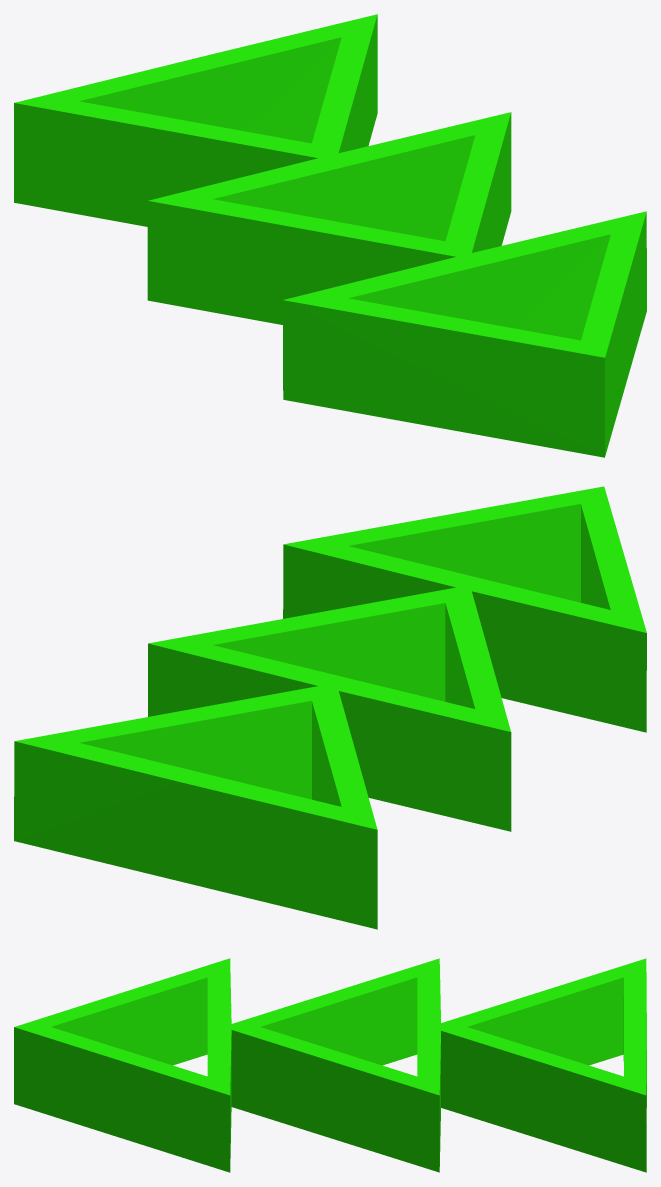
The model's file is SlowDown.fbx.
3 renders of one model, top to bottom at view 1: azimuth 30°, elevation 25°; view 2: azimuth 150°, elevation 25°; view 3: azimuth 270°, elevation 25°, orthographic. The views are drawn at different scales.
Visible parts, largest first — view 1: Slow; view 2: Slow; view 3: Slow.
Part boxes in pixels (bbox=[...]): Slow: bbox=[14, 14, 646, 457]; Slow: bbox=[14, 486, 646, 929]; Slow: bbox=[14, 958, 646, 1172].
Size of the model in its own units: 8.44 by 2.21 by 16.43.
